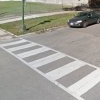crosswalk: (0, 37, 100, 100)
